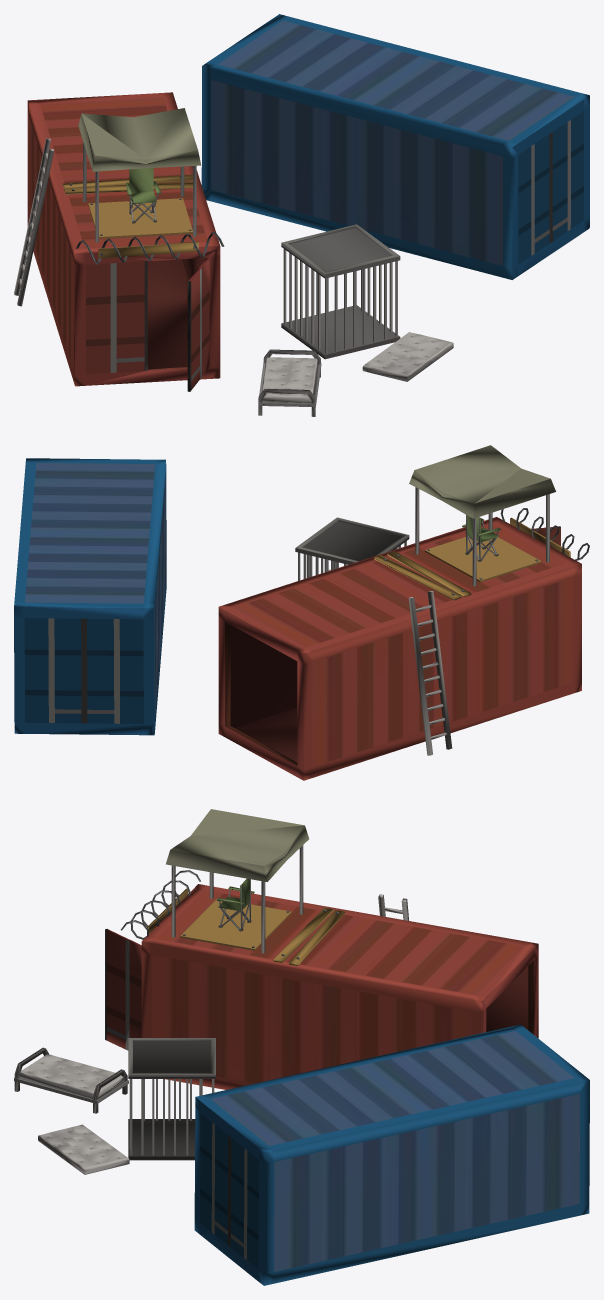
File: apoc_prop_32.glb
The picture shows the model from 3 angles, top to bottom: view 1: azimuth 30°, elevation 25°; view 2: azimuth 150°, elevation 25°; view 3: azimuth 270°, elevation 25°; orthographic projection. The views are drawn at different scales.
Visible parts, largest first — view 1: prop_034; view 2: prop_034; view 3: prop_034.
Boxes of the visible parts, bbox=[...] form: prop_034: bbox=[14, 14, 589, 416]; prop_034: bbox=[14, 445, 589, 780]; prop_034: bbox=[14, 809, 589, 1285].
Size of the model in its own units: 2.98 by 1.14 by 2.69.
1 material, 1 textured.
